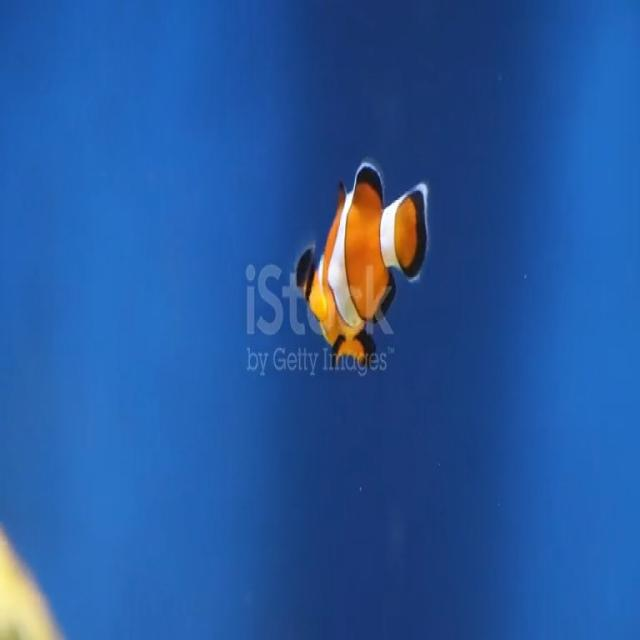fish: (295, 156, 429, 363)
